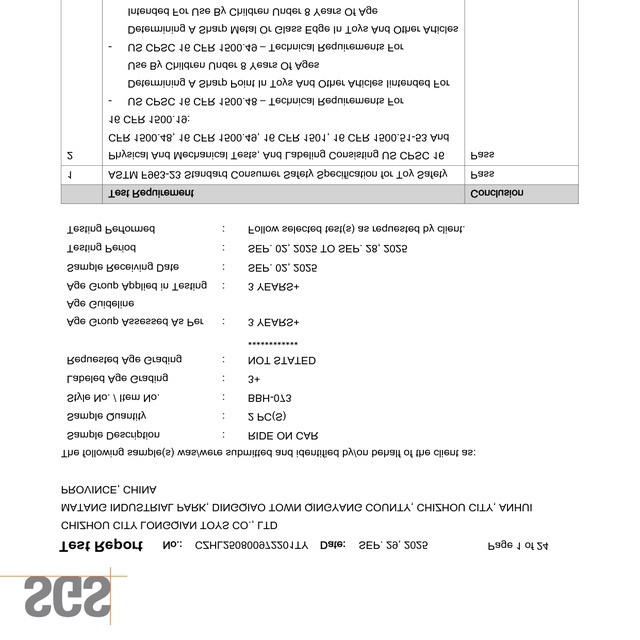sgs: (25, 576, 112, 619)
